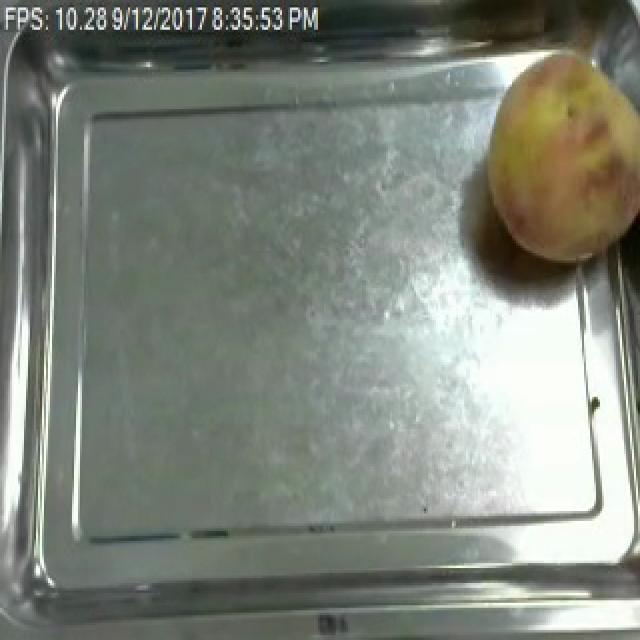Fruit: (472, 47, 640, 273)
